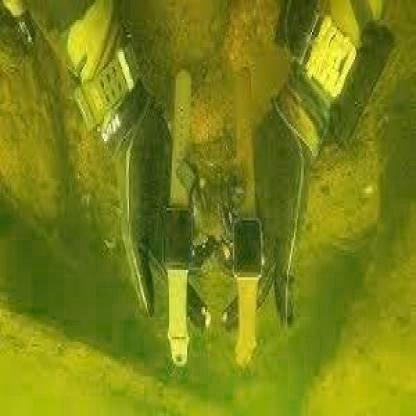electronics: (165, 69, 201, 369), (234, 69, 264, 374)
